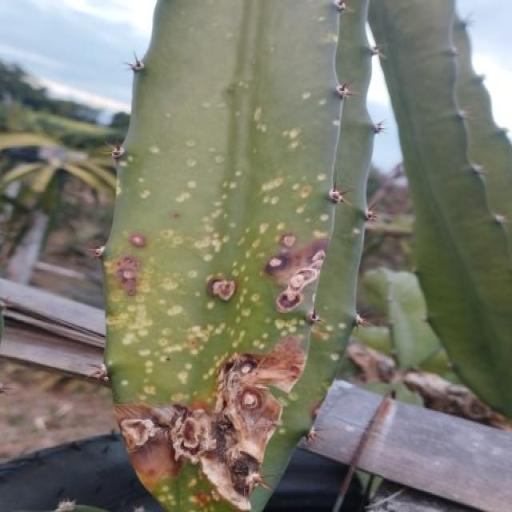stemcanker: (249, 106, 328, 187), (250, 162, 331, 236), (120, 134, 200, 208), (116, 307, 156, 403), (186, 211, 234, 263), (209, 150, 247, 210), (185, 315, 226, 370), (227, 304, 268, 350), (321, 321, 350, 366), (158, 266, 184, 316), (148, 225, 183, 261), (240, 242, 261, 301), (156, 324, 184, 368), (270, 314, 310, 342), (196, 81, 226, 117), (156, 481, 186, 512), (167, 371, 196, 402), (186, 267, 203, 313), (293, 82, 314, 103), (159, 105, 176, 123), (228, 106, 244, 124), (237, 76, 253, 93)
